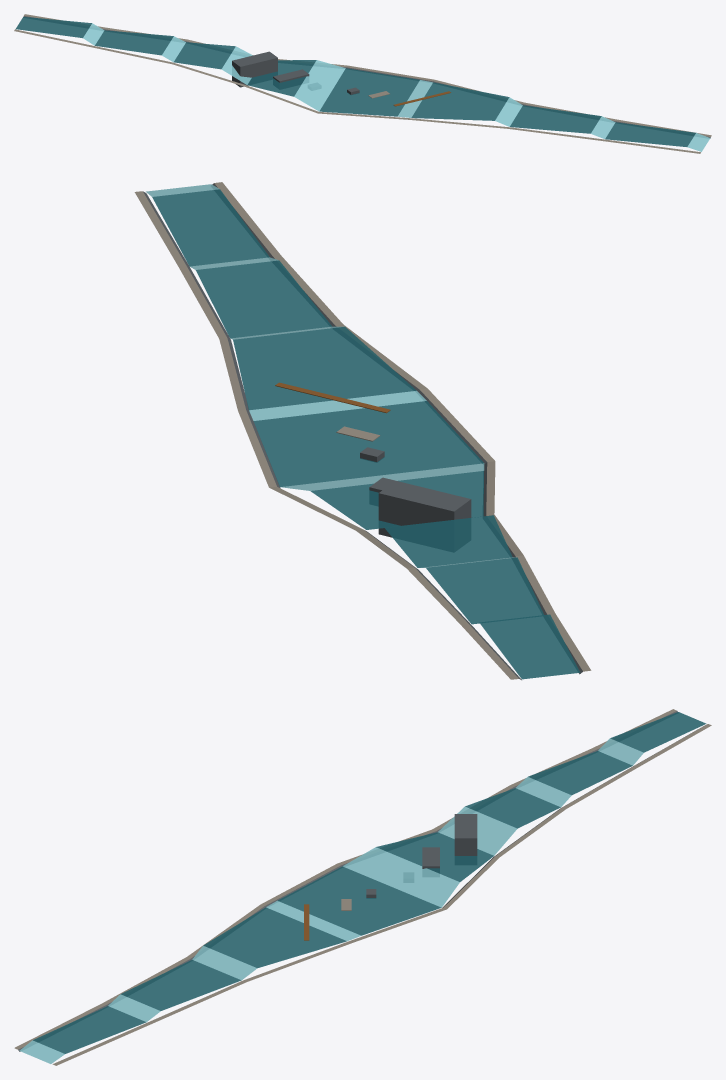
Rendered from water_thac_lieng_ai_da_sar.glb.
The picture shows the model from 3 angles, top to bottom: view 1: azimuth 30°, elevation 25°; view 2: azimuth 150°, elevation 25°; view 3: azimuth 270°, elevation 25°; orthographic projection. The views are drawn at different scales.
Parts seen in each view (by area): view 1: water_terraces_water_thac_lieng_ai_da_sar, waterfall_curtain_water_thac_lieng_ai_da_sar, canyon_walkway_water_thac_lieng_ai_da_sar, lieng_ai_main_basalt_waterfall_cliff, basalt_canyon_embankments_water_thac_lieng_ai_da_sar, lieng_ai_middle_cascade_stone_ledge; view 2: water_terraces_water_thac_lieng_ai_da_sar, canyon_walkway_water_thac_lieng_ai_da_sar, waterfall_curtain_water_thac_lieng_ai_da_sar, lieng_ai_main_basalt_waterfall_cliff, basalt_canyon_embankments_water_thac_lieng_ai_da_sar; view 3: water_terraces_water_thac_lieng_ai_da_sar, waterfall_curtain_water_thac_lieng_ai_da_sar, canyon_walkway_water_thac_lieng_ai_da_sar, lieng_ai_main_basalt_waterfall_cliff, basalt_canyon_embankments_water_thac_lieng_ai_da_sar.
Part boxes in pixels (x1=…): water_terraces_water_thac_lieng_ai_da_sar: x1=15, y1=17, x2=695, y2=146; waterfall_curtain_water_thac_lieng_ai_da_sar: x1=83, y1=23, x2=710, y2=151; canyon_walkway_water_thac_lieng_ai_da_sar: x1=14, y1=14, x2=711, y2=153; lieng_ai_main_basalt_waterfall_cliff: x1=232, y1=51, x2=277, y2=87; basalt_canyon_embankments_water_thac_lieng_ai_da_sar: x1=23, y1=16, x2=710, y2=138; lieng_ai_middle_cascade_stone_ledge: x1=273, y1=69, x2=309, y2=82; water_terraces_water_thac_lieng_ai_da_sar: x1=152, y1=189, x2=580, y2=679; canyon_walkway_water_thac_lieng_ai_da_sar: x1=134, y1=182, x2=591, y2=679; waterfall_curtain_water_thac_lieng_ai_da_sar: x1=146, y1=184, x2=516, y2=567; lieng_ai_main_basalt_waterfall_cliff: x1=378, y1=481, x2=471, y2=537; basalt_canyon_embankments_water_thac_lieng_ai_da_sar: x1=143, y1=183, x2=582, y2=680; water_terraces_water_thac_lieng_ai_da_sar: x1=33, y1=712, x2=706, y2=1053; waterfall_curtain_water_thac_lieng_ai_da_sar: x1=19, y1=738, x2=643, y2=1063; canyon_walkway_water_thac_lieng_ai_da_sar: x1=14, y1=709, x2=711, y2=1065; lieng_ai_main_basalt_waterfall_cliff: x1=454, y1=814, x2=477, y2=855; basalt_canyon_embankments_water_thac_lieng_ai_da_sar: x1=18, y1=711, x2=703, y2=1051.
Size of the model in its own units: 565 by 54.45 by 561.
